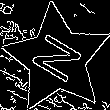N_SE: (25, 29, 89, 89)
